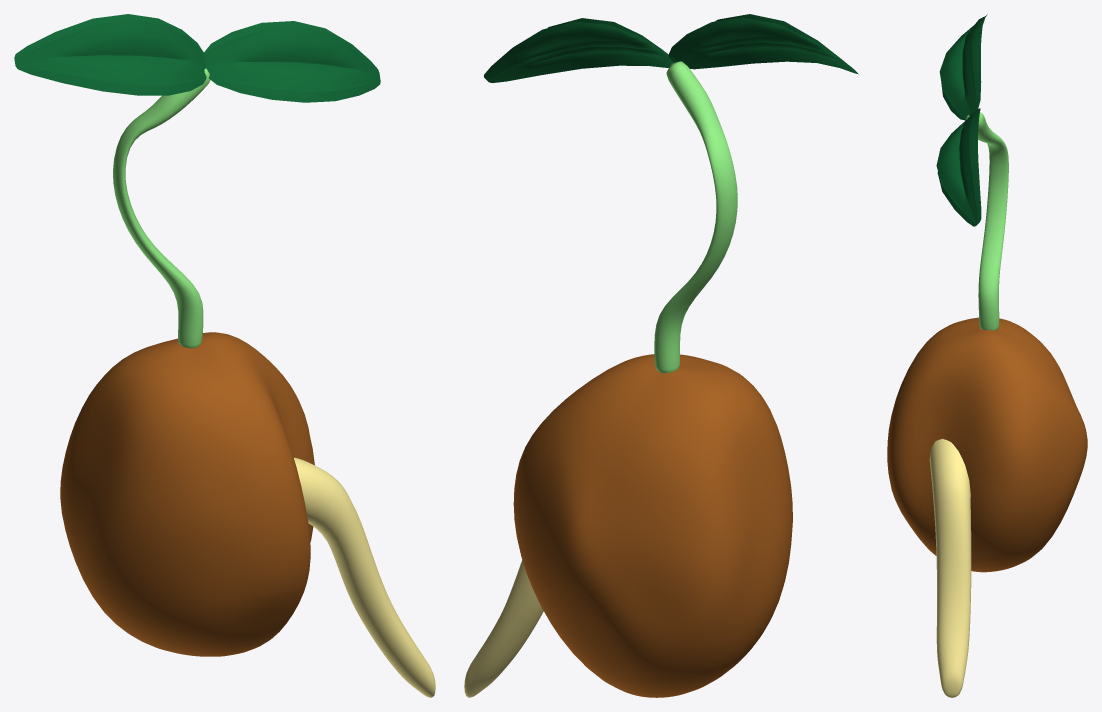
The model's file is Seedling_V2.glb.
3 views of the same model, side by side, from view 1: azimuth 30°, elevation 25°; view 2: azimuth 150°, elevation 25°; view 3: azimuth 270°, elevation 25° (orthographic). The views are drawn at different scales.
Parts seen in each view (by area): view 1: Sphere.002, Plane.002, Cube, Cylinder; view 2: Sphere.002, Plane.002, Cylinder, Cube; view 3: Sphere.002, Cube, Plane.002, Cylinder.
Part boxes in pixels (x1,y1,x2,y2): Sphere.002: (60,332,314,656); Plane.002: (14,14,380,102); Cube: (294,457,435,697); Cylinder: (113,68,210,348); Sphere.002: (513,354,792,697); Plane.002: (484,14,858,82); Cylinder: (654,61,737,373); Cube: (464,560,543,697); Sphere.002: (887,317,1087,572); Cube: (929,438,971,697); Plane.002: (936,14,987,226); Cylinder: (965,112,1008,330).
Size of the model in its own units: 2.59 by 4.64 by 1.51.
